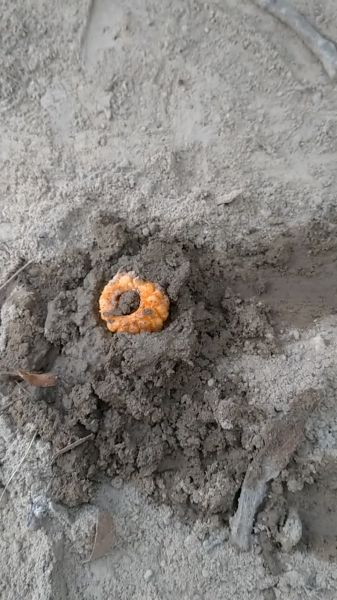eggs: (94, 270, 177, 344)
